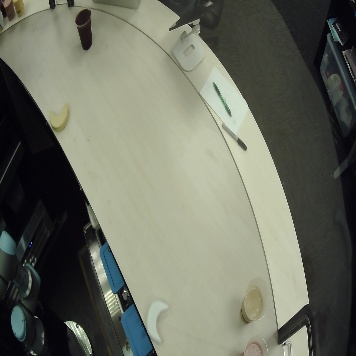full_cup: (240, 270, 272, 332), (69, 4, 99, 54), (242, 332, 270, 356), (1, 1, 20, 23), (13, 1, 27, 19)
puck: (142, 296, 174, 347), (45, 98, 75, 135)
